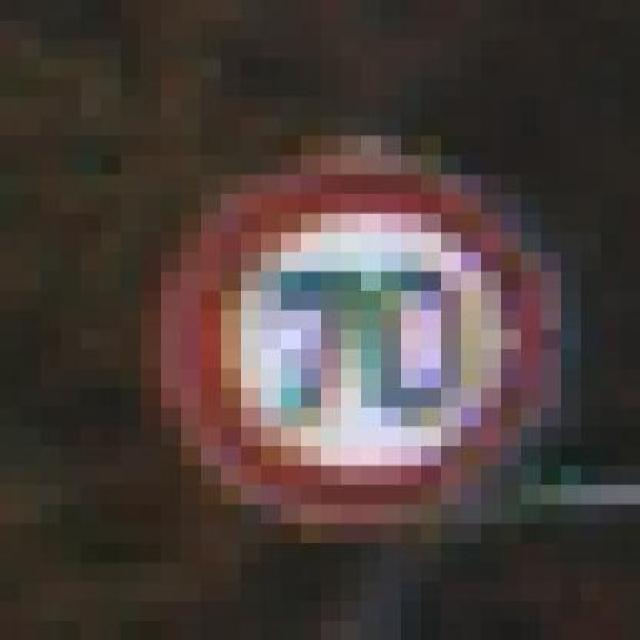forb_speed_over_70: (172, 163, 543, 519)
